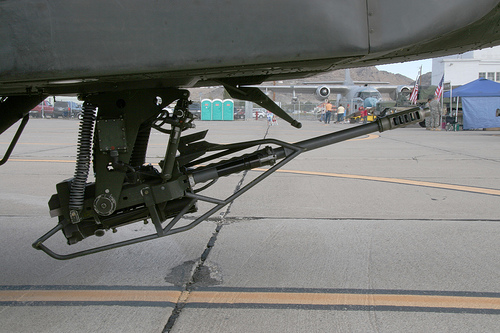rifle: (33, 98, 449, 259)
